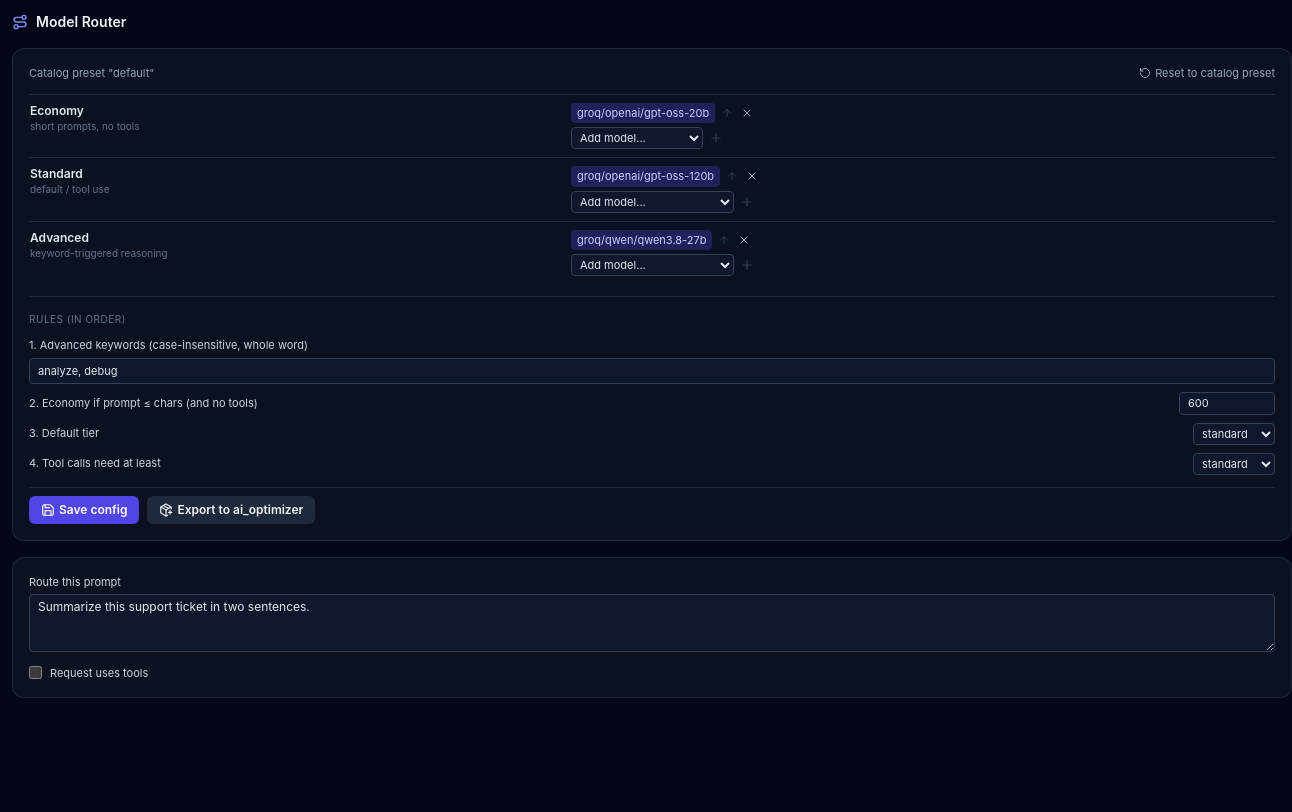
Scenario: RouterView › removes candidates and shows router errors
This screenshot has width=1292, height=812.
Click the button named "Remove qwen/qwen3.8-27b".
click(744, 240)  # box [736,232,752,248]
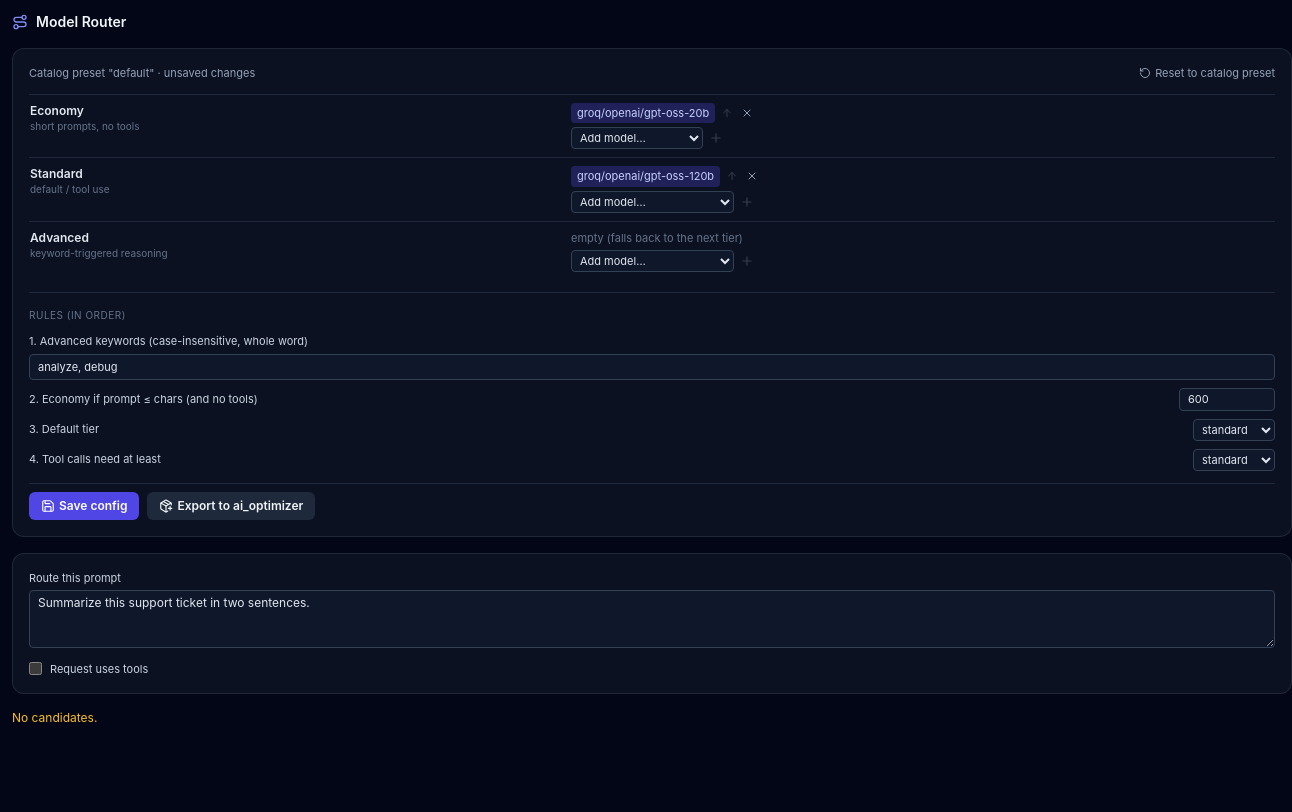
Expected: the text "empty (falls back to the next tier)" is shown, [571,230,743,244]
Expected: the text "No candidates." is shown, [12,710,97,725]
